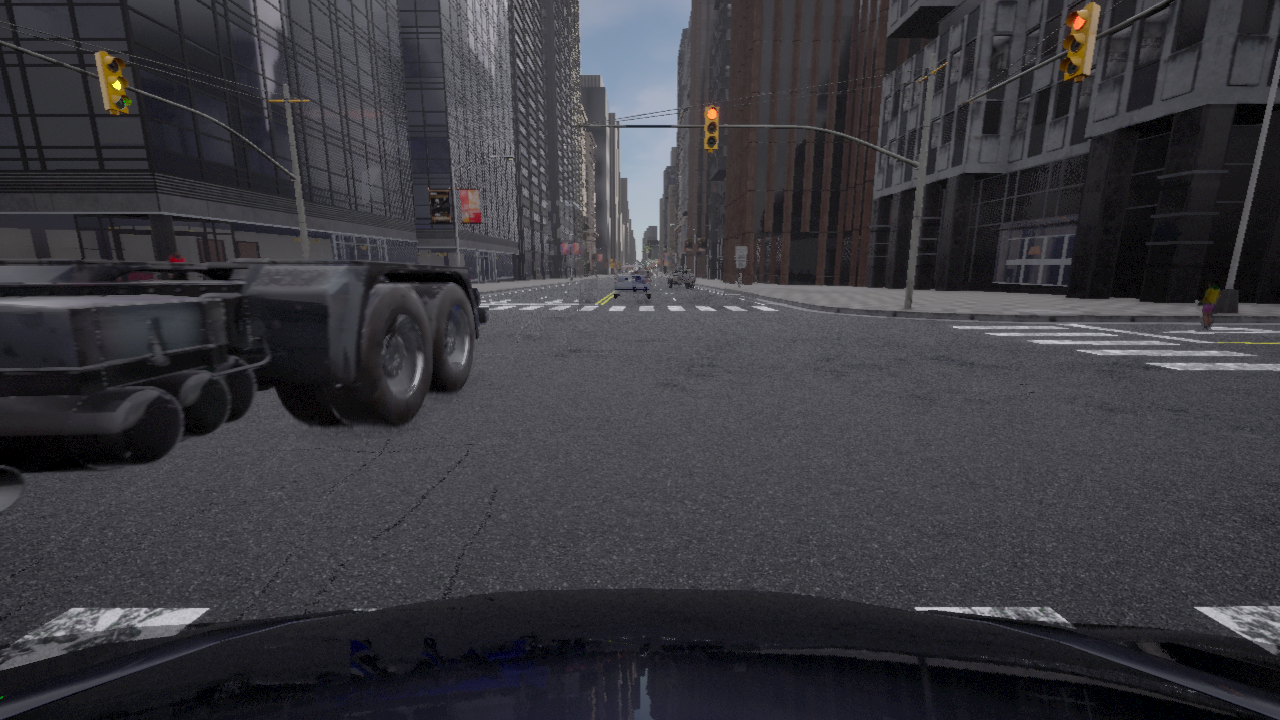cyclist: (0, 588, 1279, 719), (0, 259, 487, 517), (613, 263, 651, 298), (667, 265, 693, 288)
